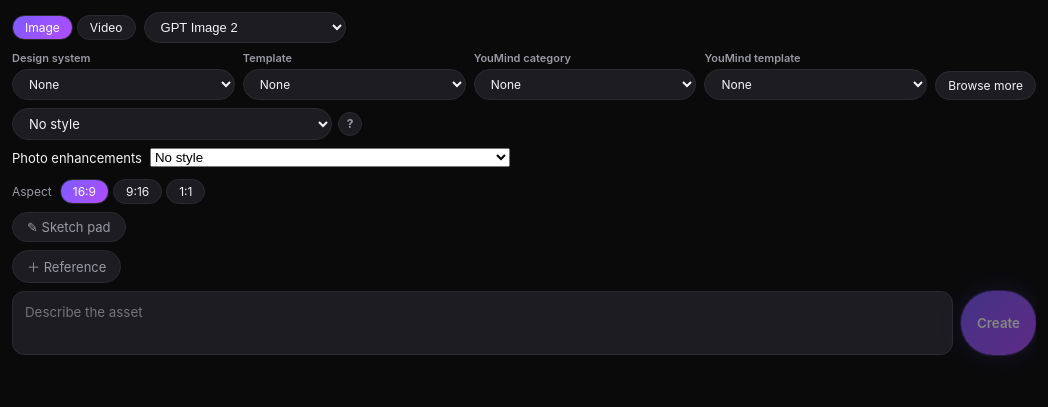
Test: PromptComposer Open Design integration › removes only the photography block and hides the entry in video mode
The image size is (1048, 407).
Type "A studio portrait" into the text box with placeholder "Describe the asset" at (482, 323), box [12,291,953,355]
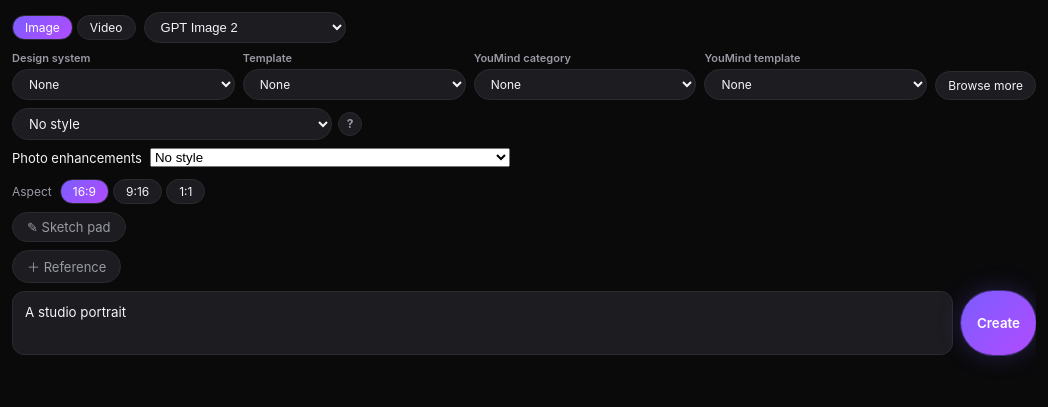
Select "Studio portrait" in the dropdown labelled "Photo enhancements" at (330, 158), box [150,148,510,167]
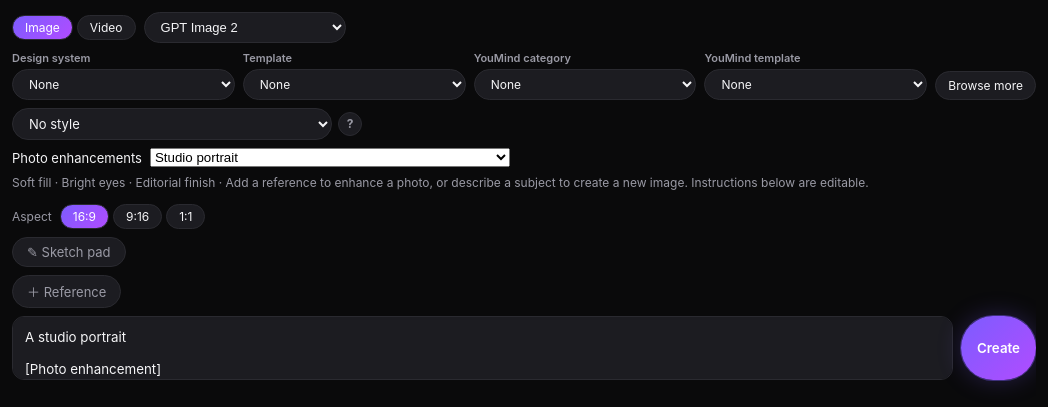
Select "No style" in the dropdown labelled "Photo enhancements" at (330, 158), box [150,148,510,167]
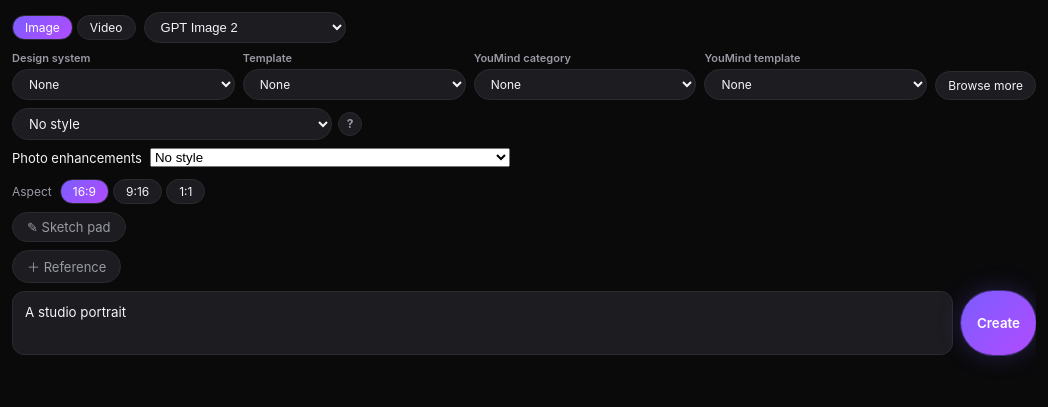
Click the button "Video" at (106, 28), box [77,15,136,40]
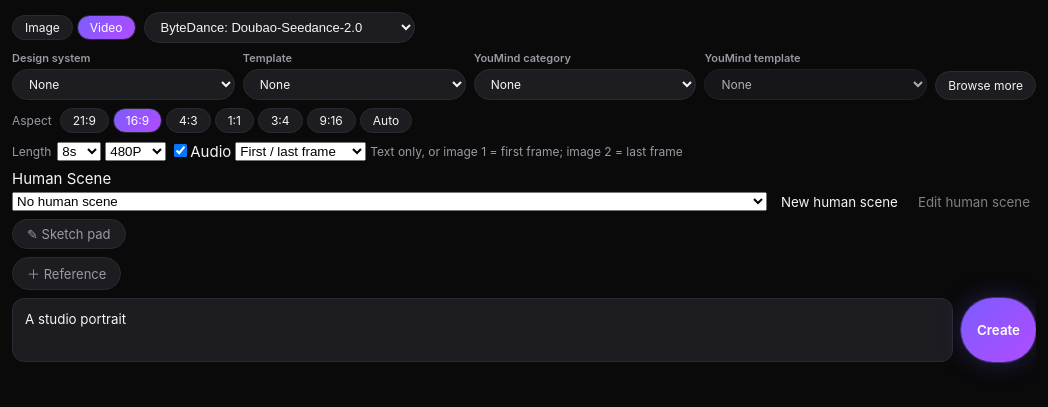
Expected: the label "Photo enhancements" is gone
